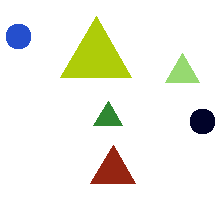circle: (6, 24, 30, 48), (190, 109, 214, 133)
triangle: (60, 16, 131, 77), (90, 145, 135, 183), (165, 53, 199, 82), (93, 101, 122, 125)
